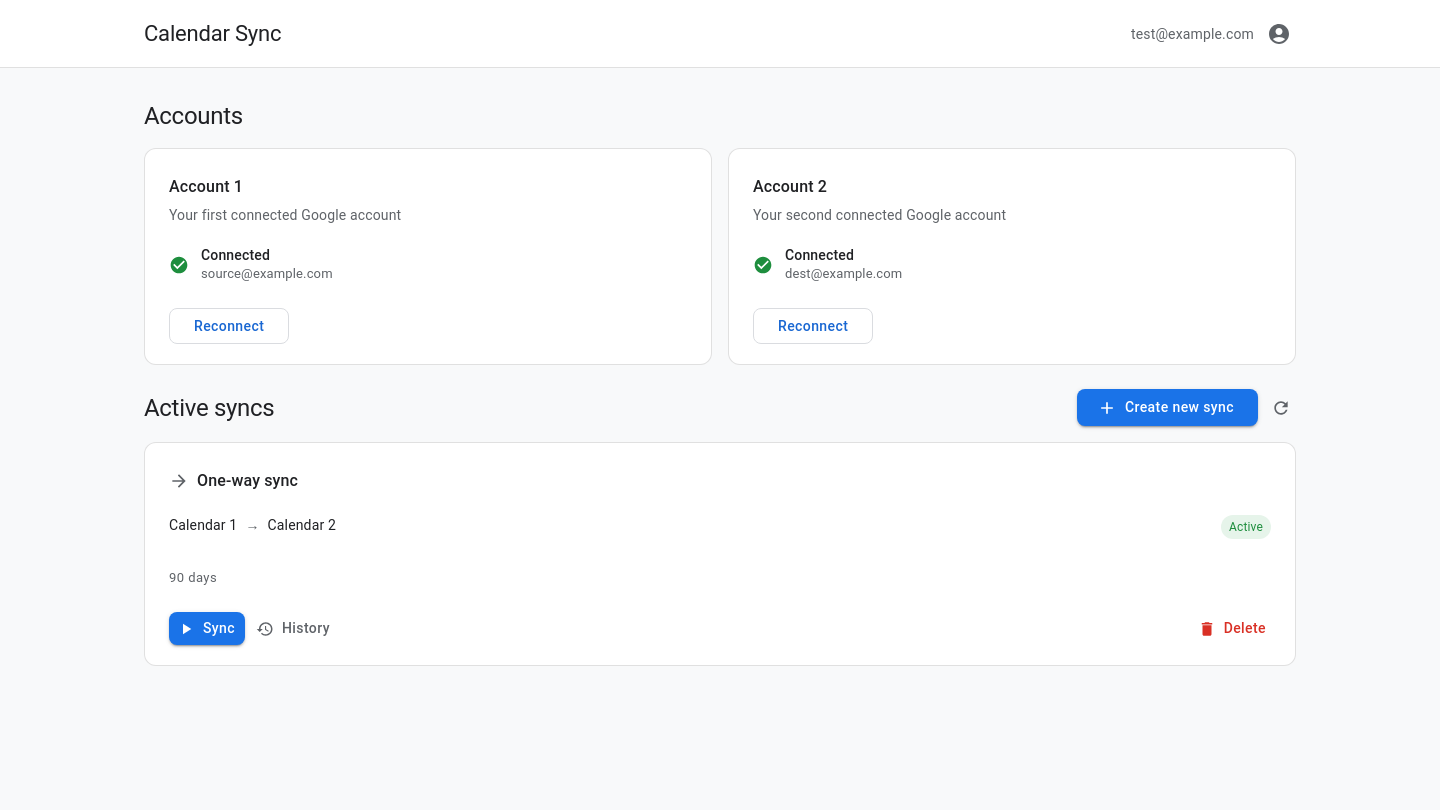
Scenario: Dashboard - Sync Deletion › One-way sync deletion › should show error message when deletion fails
Check: the heading "One-way sync" is shown, box left=197, top=467, right=298, bottom=495
Click the button "Delete". click: (1233, 629)
box: left=1195, top=612, right=1271, bottom=645
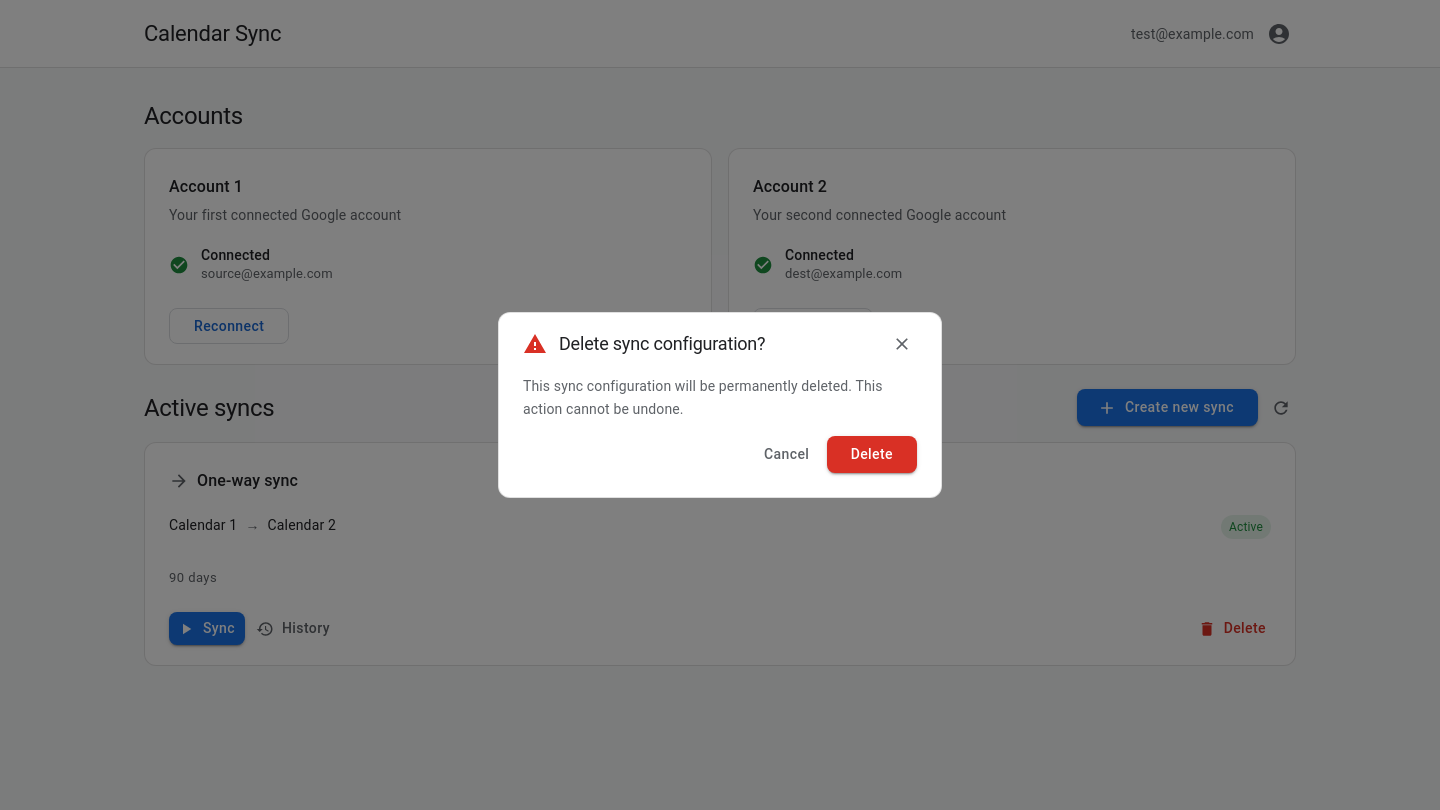
Click the button "Delete". click: (872, 454)
box: left=827, top=436, right=917, bottom=473
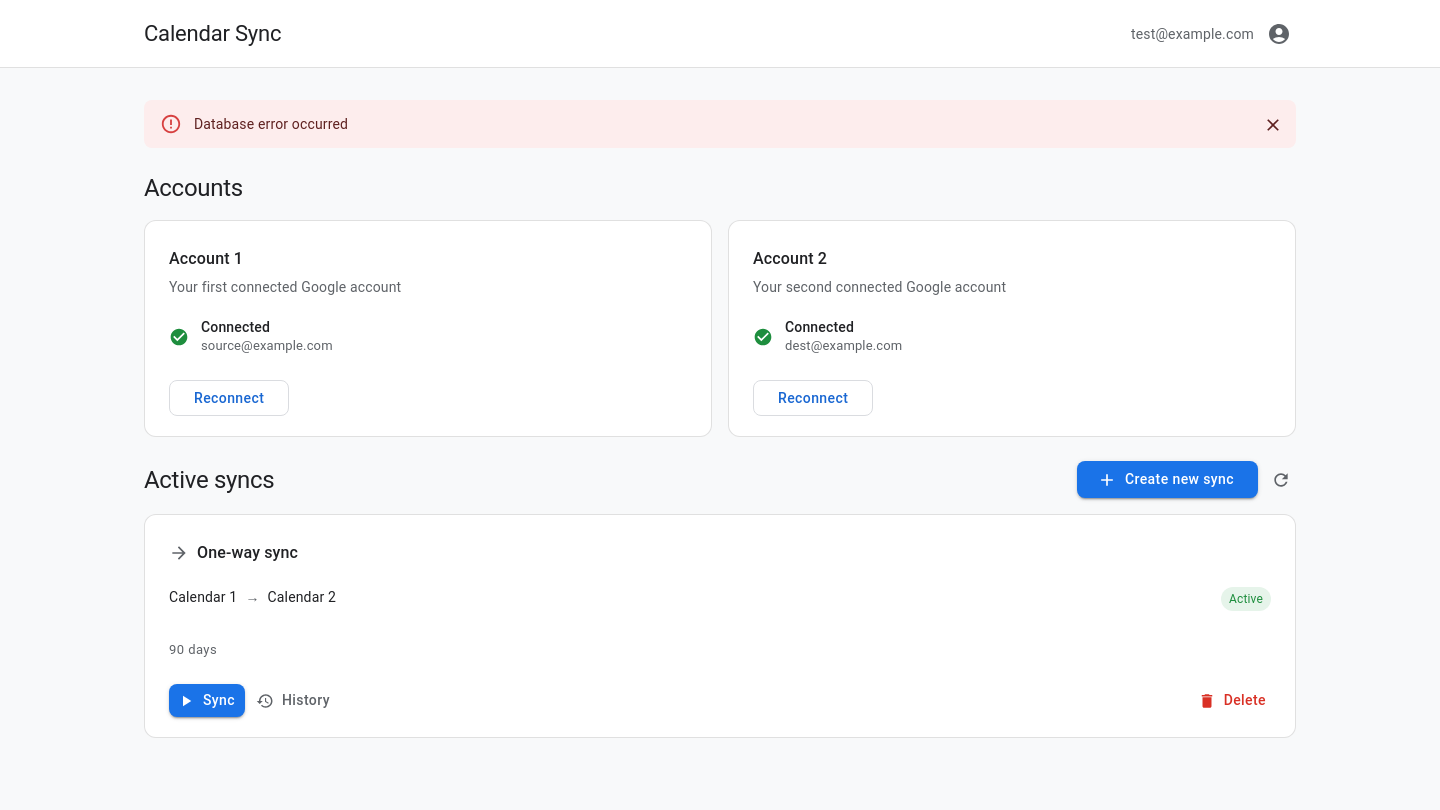
Check: the heading "One-way sync" is shown, box left=197, top=539, right=298, bottom=567
Check: the text "Database error occurred" is shown, box left=194, top=116, right=348, bottom=132
